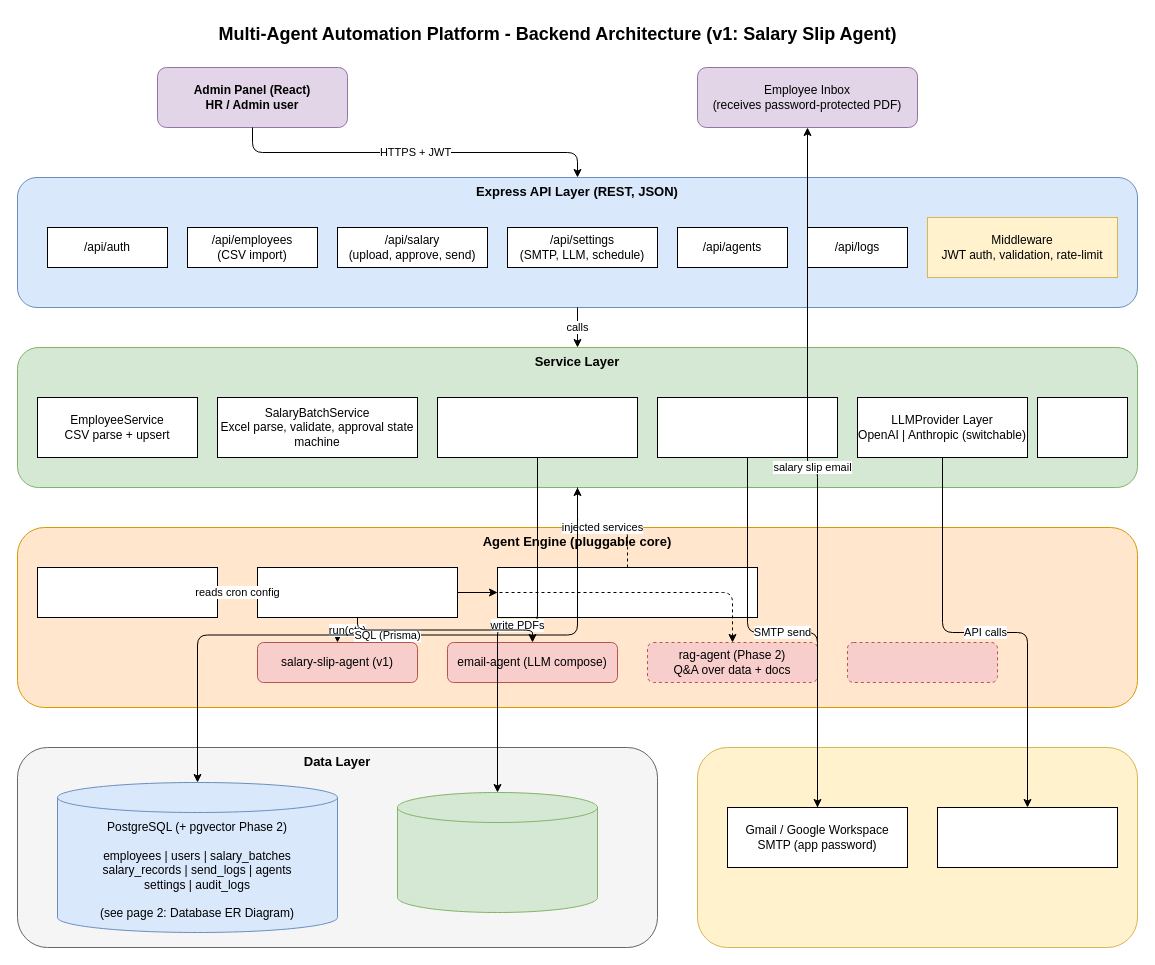
The diagram is 1155 pixels wide and 965 high, and some of its shapes have lost their labels. The box of each missing label's shape, as (x1, y1, x2, y2) in pixels:
Agent Registry agents table: name, cron, config: (256, 566, 458, 618)
AgentContext { db, mailer, pdf, llm, storage, logger, settings }: (496, 566, 758, 618)
External Services: (696, 746, 1138, 948)
File Storage encrypted PDF slips, uploaded Excel/CSV: (396, 792, 598, 912)
future agents... (reports, reminders): (846, 642, 998, 682)
LLM APIs OpenAI / Anthropic Claude: (936, 806, 1118, 868)
MailerService Nodemailer abstraction, queue + retry: (656, 396, 838, 458)
Scheduler (node-cron) fires 1st of month 09:00: (36, 566, 218, 618)
Settings + AuditService: (1036, 396, 1128, 458)
SlipPDFService generate + encrypt (pwd = DOB DDMMYYYY): (436, 396, 638, 458)
